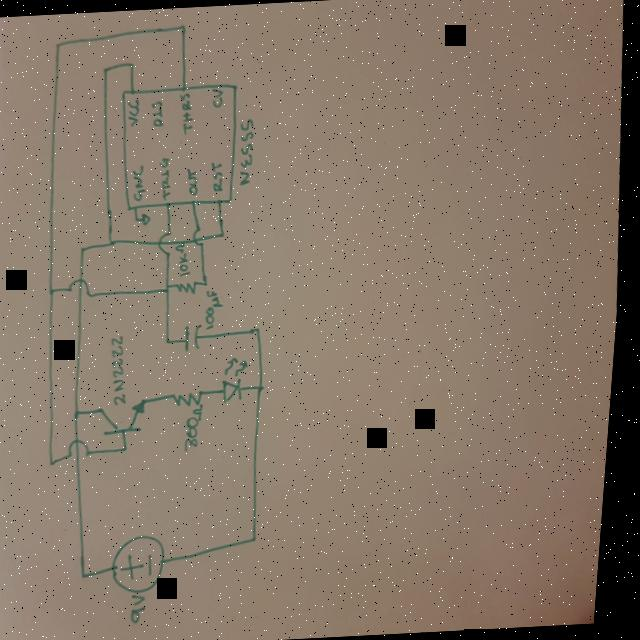capacitor: (181, 320, 213, 356)
crossover: (71, 276, 99, 300), (73, 436, 100, 458), (160, 230, 178, 257), (195, 225, 210, 248)
diode: (222, 356, 256, 406)
ground: (143, 210, 157, 228)
junction: (109, 236, 123, 248), (127, 59, 139, 70), (81, 244, 92, 254), (52, 284, 61, 296), (167, 282, 176, 294), (179, 22, 189, 32), (102, 65, 112, 75), (79, 407, 89, 417), (222, 229, 231, 239), (55, 456, 64, 466), (54, 40, 63, 49), (262, 383, 272, 391), (205, 279, 214, 287), (169, 336, 178, 344), (89, 570, 97, 578), (259, 534, 267, 542), (129, 444, 136, 452), (260, 326, 267, 334), (137, 216, 143, 223)
resistor: (175, 384, 217, 408), (179, 280, 203, 294)
source: (117, 530, 177, 594)
text: (111, 333, 138, 408), (238, 116, 262, 184), (188, 406, 212, 453), (208, 288, 231, 331), (179, 91, 198, 136), (159, 156, 177, 201), (137, 594, 159, 626), (133, 164, 151, 202), (212, 160, 230, 193), (127, 97, 144, 128), (181, 246, 197, 278), (151, 100, 168, 128), (188, 166, 203, 197), (211, 86, 227, 109)
transistor: (101, 398, 158, 445)
